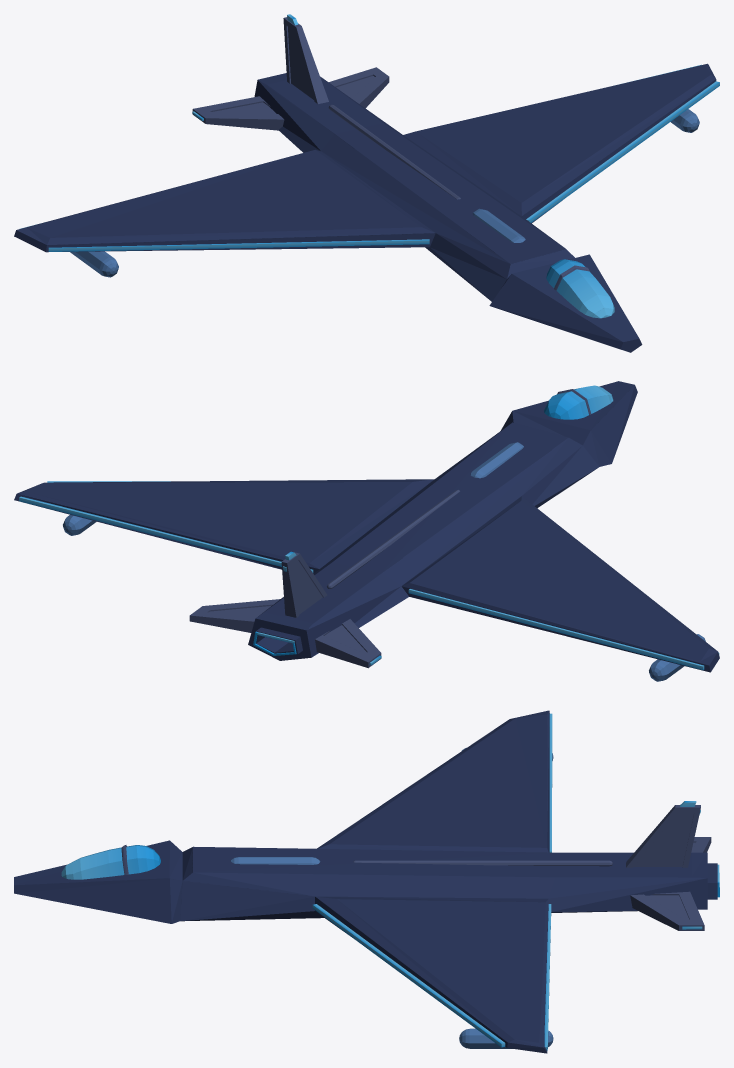
The model's file is CUPIC_JEt.obj.
3 renders of one model, top to bottom at view 1: azimuth 30°, elevation 25°; view 2: azimuth 150°, elevation 25°; view 3: azimuth 270°, elevation 25°, orthographic.
Bounding box in the file's own units: 946 × 141 × 833.
Materials: 1 (1 with a texture image).
